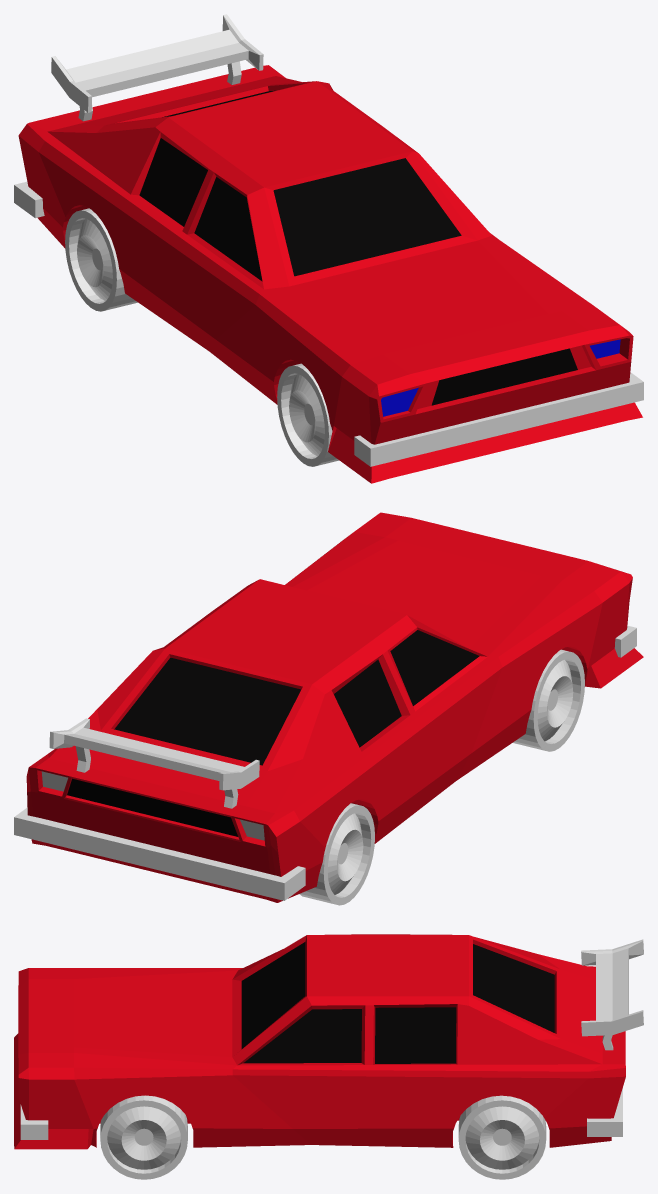
File: race_car.fbx
3 views of the same model, one above another, from view 1: azimuth 30°, elevation 25°; view 2: azimuth 150°, elevation 25°; view 3: azimuth 270°, elevation 25° (orthographic). The views are drawn at different scales.
Visible parts, largest first — view 1: Cube, Cube.004, Cube.001, Cylinder.007, Cylinder.002, Cube.007; view 2: Cube, Cube.007, Cube.004, Cylinder.002, Cylinder.007; view 3: Cube, Cylinder.005, Cylinder.006, Cube.004, Cube.007, Cube.001.
Part boxes in pixels (box(x1,y1,x2,y2)): Cube: box(18, 65, 642, 483); Cube.004: box(51, 14, 263, 112); Cube.001: box(354, 372, 643, 466); Cylinder.007: box(65, 208, 137, 311); Cylinder.002: box(277, 363, 339, 466); Cube.007: box(14, 181, 44, 218); Cube: box(26, 512, 643, 902); Cube.007: box(14, 807, 305, 900); Cube.004: box(49, 718, 259, 790); Cylinder.002: box(512, 649, 584, 751); Cylinder.007: box(299, 803, 374, 905); Cube: box(14, 934, 625, 1149); Cylinder.005: box(100, 1095, 187, 1179); Cylinder.006: box(458, 1095, 546, 1179); Cube.004: box(581, 939, 643, 1036); Cube.007: box(587, 1088, 622, 1136); Cube.001: box(20, 1104, 48, 1139).
Size of the model in its own units: 424 by 280 by 991.
